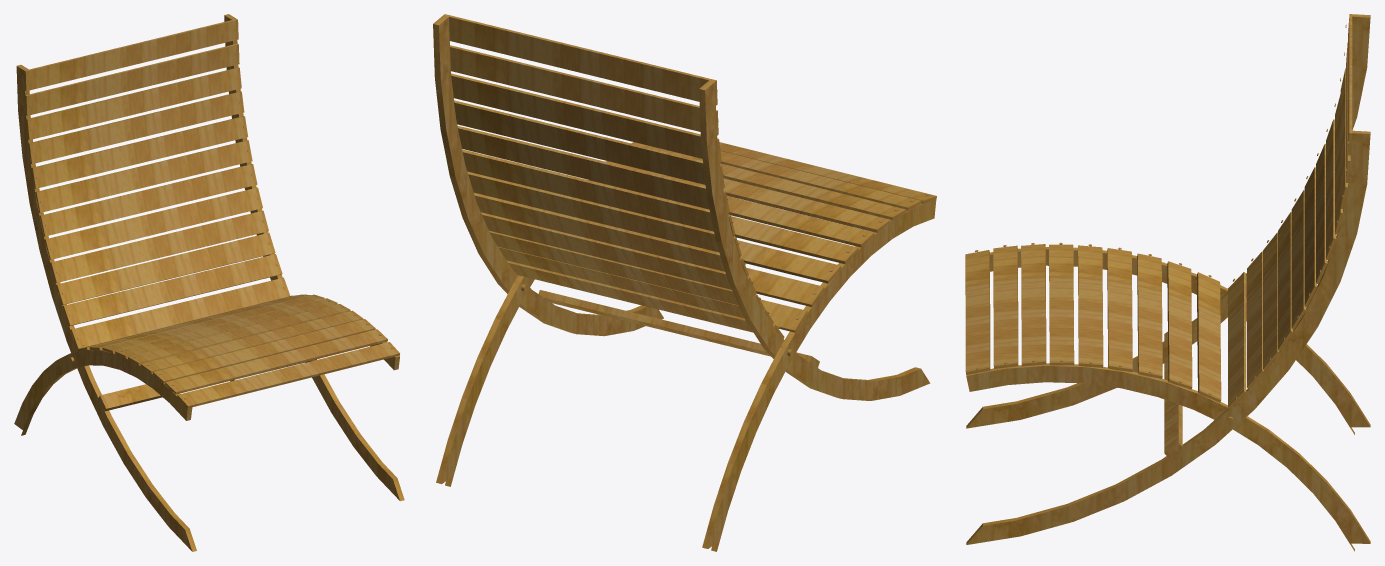
3 views of the same model, side by side, from view 1: azimuth 30°, elevation 25°; view 2: azimuth 150°, elevation 25°; view 3: azimuth 270°, elevation 25° (orthographic). The views are drawn at different scales.
Parts seen in each view (by area): view 1: WoodSlats (×20), Side_Structure (×3), Berkely_Chair; view 2: WoodSlats (×21), Side_Structure (×4), Berkely_Chair; view 3: WoodSlats (×20), Side_Structure (×4), Berkely_Chair.
Part boxes in pixels (box(x1,y1,x2,y2)): WoodSlats (×20): box(24, 19, 399, 408); Side_Structure (×3): box(14, 14, 404, 551); Berkely_Chair: box(98, 359, 316, 411); WoodSlats (×21): box(443, 14, 936, 339); Side_Structure (×4): box(433, 15, 936, 551); Berkely_Chair: box(538, 290, 819, 367); WoodSlats (×20): box(965, 14, 1352, 408); Side_Structure (×4): box(966, 14, 1370, 551); Berkely_Chair: box(1164, 331, 1182, 457).
Bounding box in the file's own units: 24 × 33.08 × 37.85.
1 material, 1 textured.
